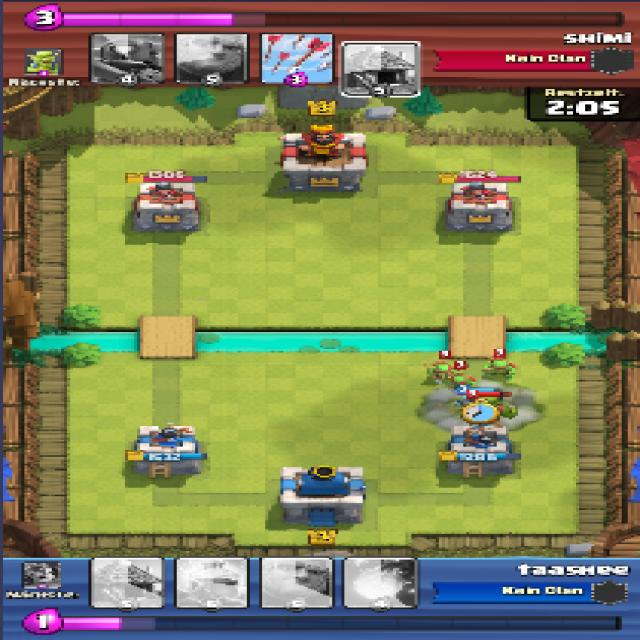Enemy-SpearGoblin: (445, 371, 475, 393), (484, 360, 517, 380), (429, 361, 456, 383)
Player-GoblinCage: (450, 402, 518, 423)
Player-MiniPEKKA: (459, 386, 504, 409)
